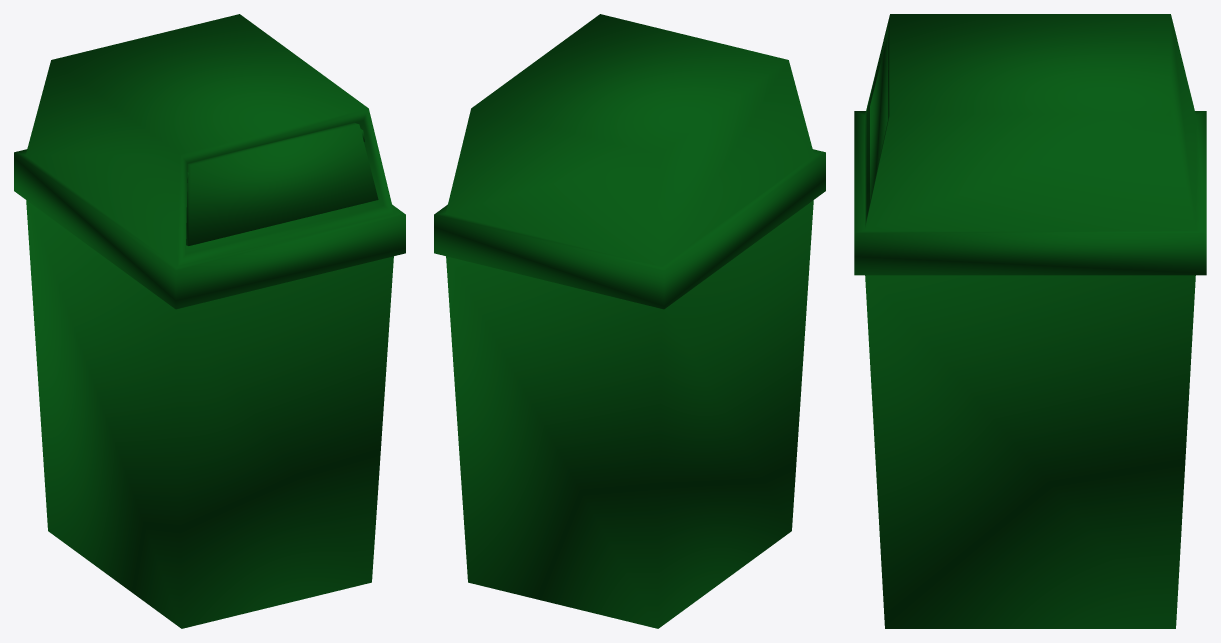
The model's file is Lixo.fbx.
3 views of the same model, side by side, from view 1: azimuth 30°, elevation 25°; view 2: azimuth 150°, elevation 25°; view 3: azimuth 270°, elevation 25° (orthographic). The views are drawn at different scales.
Visible parts, largest first — view 1: Lixo; view 2: Lixo; view 3: Lixo.
Part boxes in pixels (x1,y1,x2,y2): Lixo: [14, 14, 405, 628]; Lixo: [434, 14, 825, 628]; Lixo: [854, 14, 1206, 628].
Size of the model in its own units: 58.48 by 115 by 71.19.
